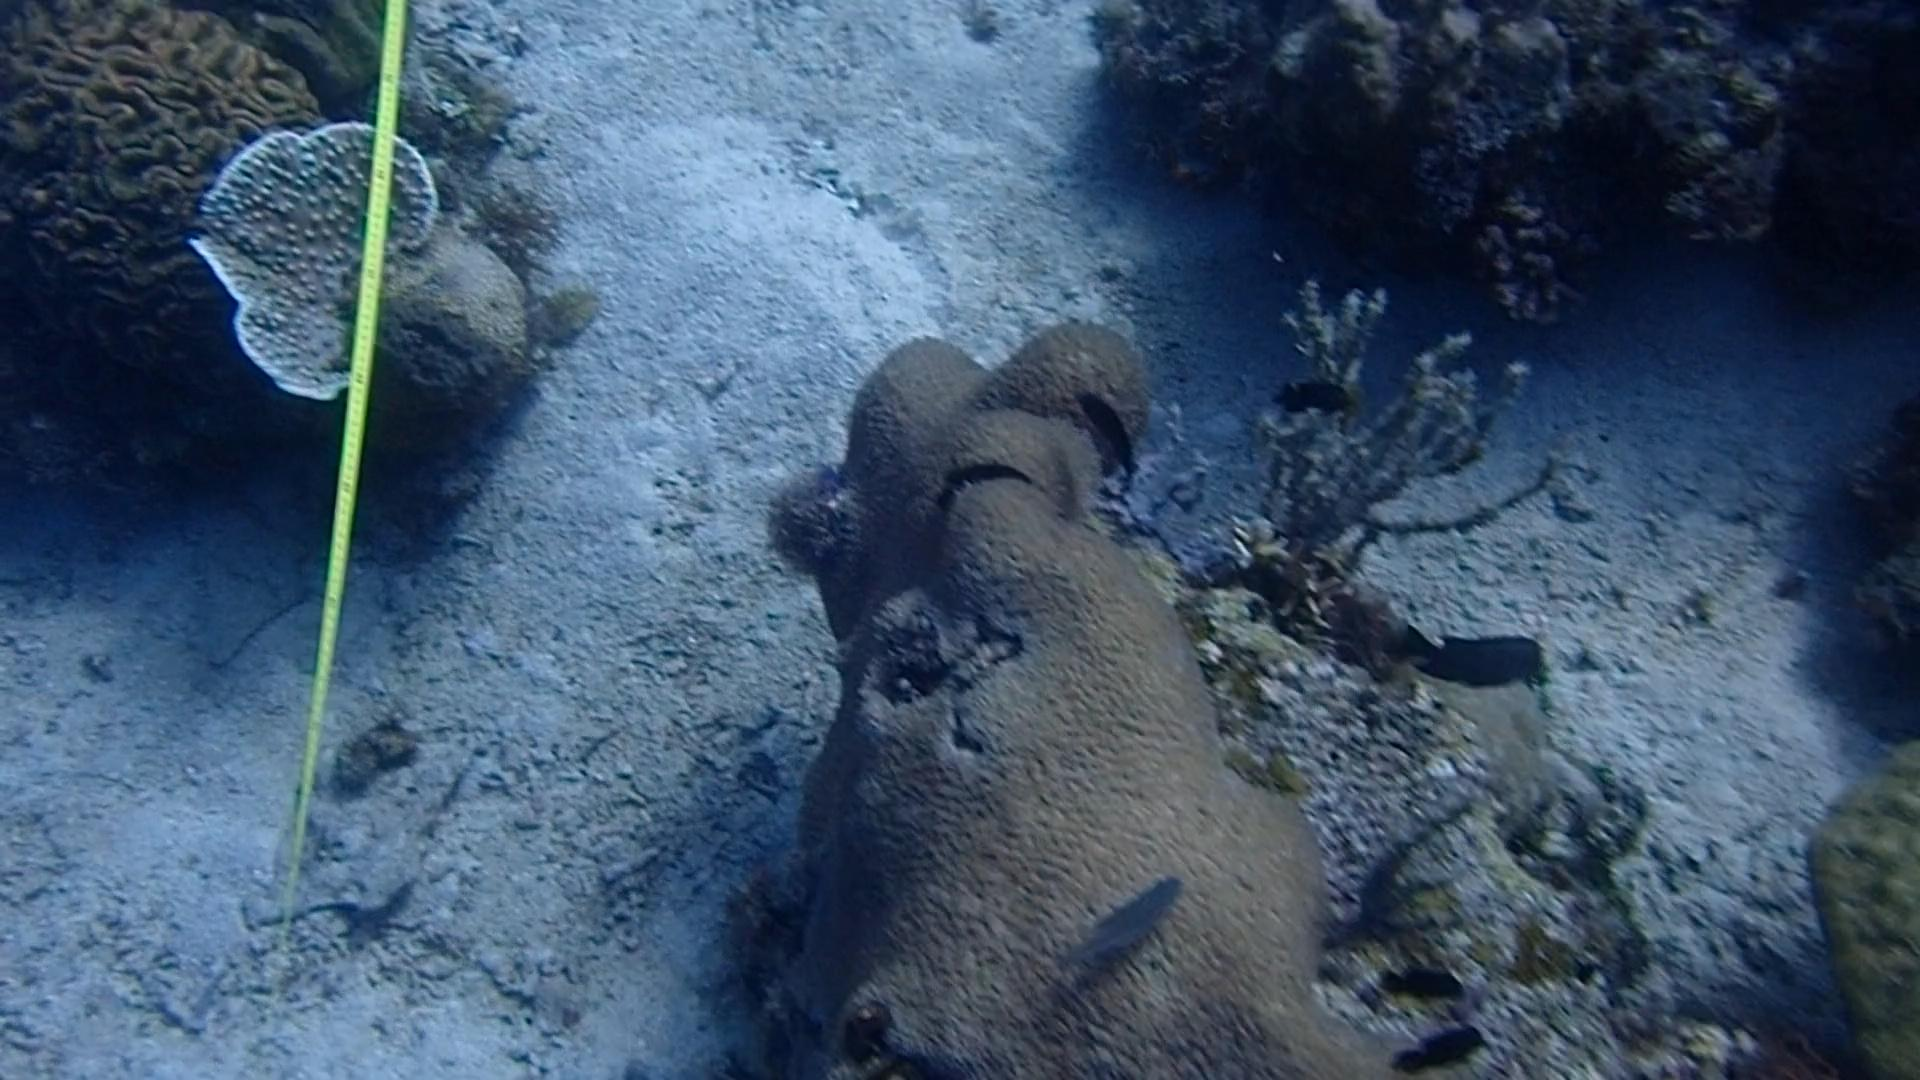Big Dark Blue Fish: (1389, 613, 1552, 703)
Dark Fish: (1062, 381, 1156, 471), (1375, 1011, 1499, 1080), (923, 435, 1022, 520), (1259, 359, 1361, 426), (1374, 960, 1472, 1010)
Light Fish: (1064, 866, 1199, 968)
